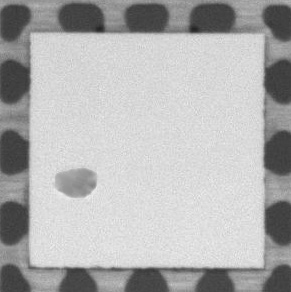DIE_INK: (50, 164, 100, 202)
